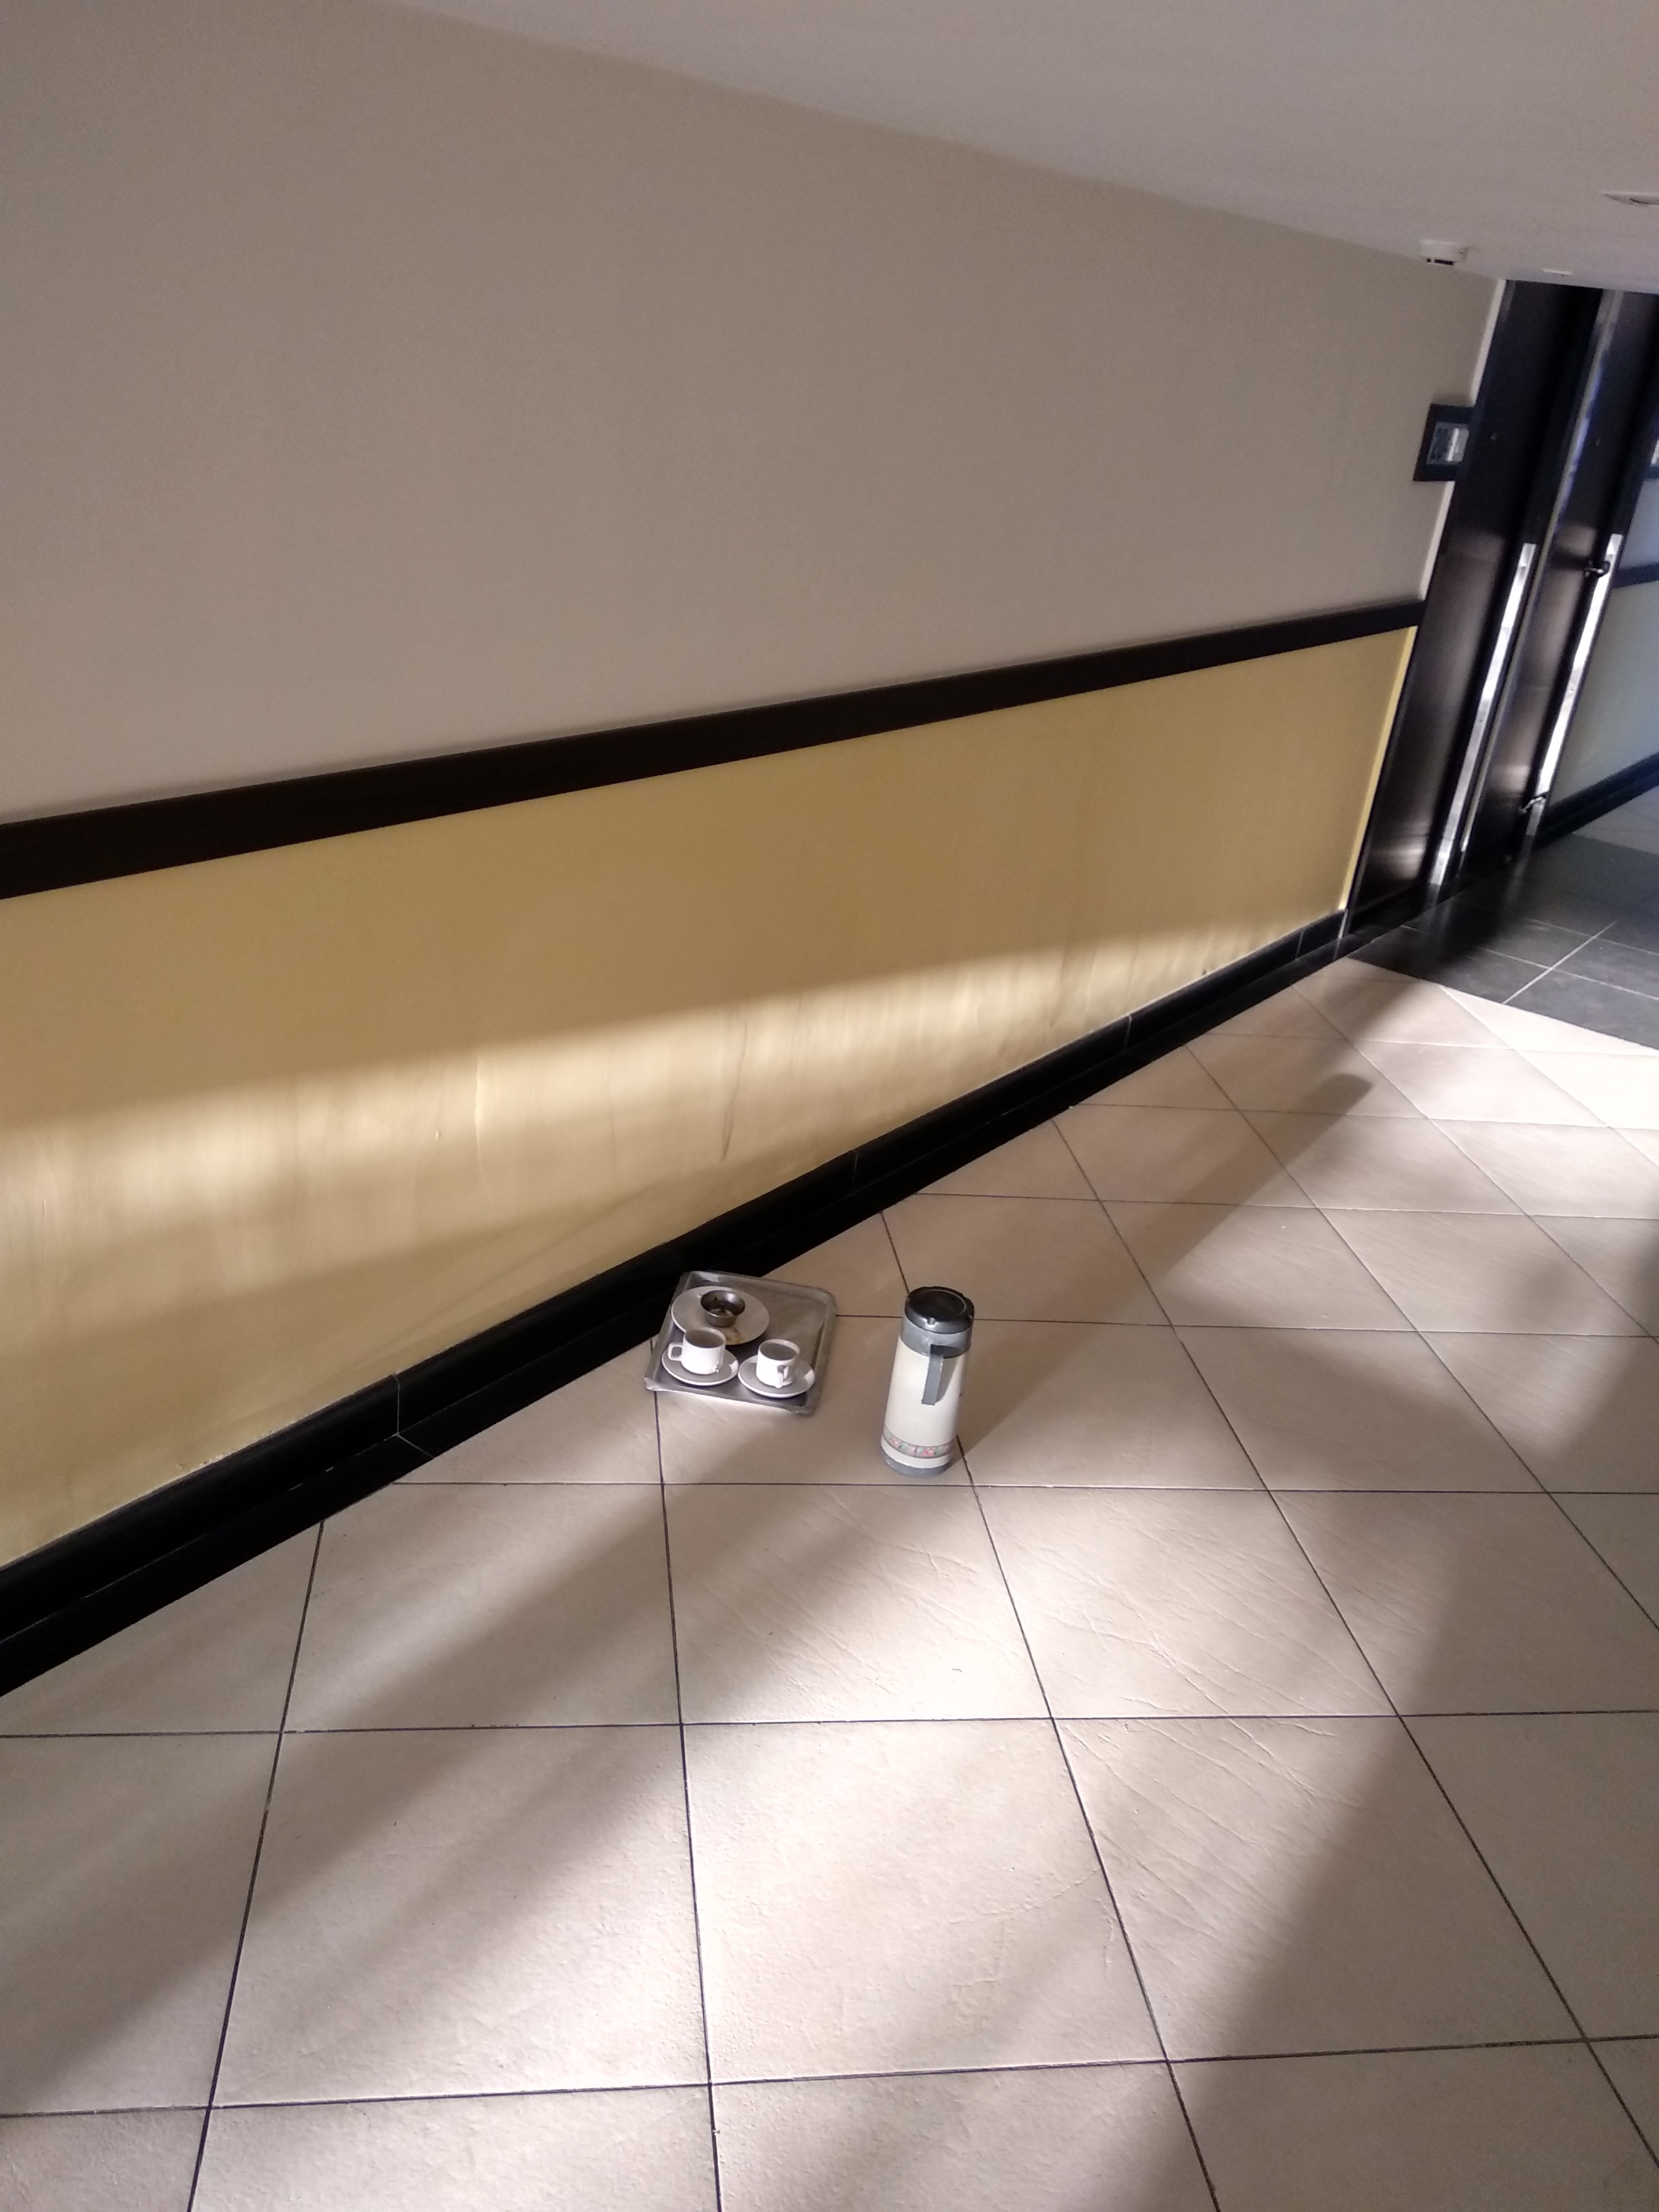CUP: (744, 1336, 810, 1399), (671, 1329, 732, 1383), (702, 1289, 746, 1325)
JUG: (897, 1291, 965, 1475)
